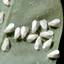whitefly: (33, 34, 43, 51), (46, 49, 61, 60), (41, 38, 53, 51), (39, 30, 54, 40), (31, 19, 40, 35), (20, 25, 29, 41), (47, 18, 61, 28), (1, 36, 10, 51), (4, 23, 16, 34), (26, 33, 40, 42), (14, 27, 22, 41), (39, 19, 48, 31)
